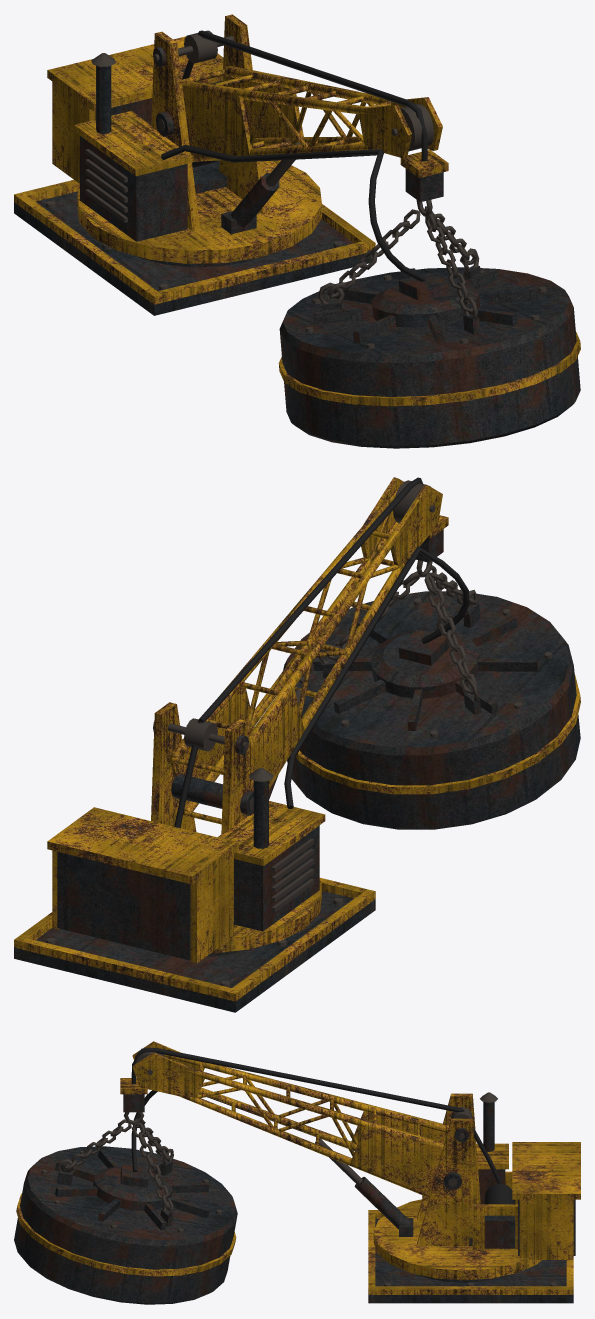
File: magnus-magnet.glb
3 renders of one model, top to bottom at view 1: azimuth 30°, elevation 25°; view 2: azimuth 150°, elevation 25°; view 3: azimuth 270°, elevation 25°, orthographic. The views are drawn at different scales.
Parts seen in each view (by area): view 1: magnus-magnet-base, magnus-magnet-disc, magnus-magnet-arm; view 2: magnus-magnet-base, magnus-magnet-disc, magnus-magnet-arm; view 3: magnus-magnet-base, magnus-magnet-disc, magnus-magnet-arm.
Boxes of the visible parts, x1=… form: magnus-magnet-base: x1=14, y1=14, x2=375, y2=315; magnus-magnet-disc: x1=278, y1=248, x2=580, y2=448; magnus-magnet-arm: x1=161, y1=30, x2=477, y2=312; magnus-magnet-base: x1=14, y1=702, x2=375, y2=1012; magnus-magnet-disc: x1=280, y1=589, x2=580, y2=829; magnus-magnet-arm: x1=169, y1=477, x2=477, y2=828; magnus-magnet-base: x1=368, y1=1092, x2=580, y2=1303; magnus-magnet-disc: x1=14, y1=1146, x2=237, y2=1304; magnus-magnet-arm: x1=64, y1=1041, x2=501, y2=1229.
Bounding box in the file's own units: 1.23 × 1.38 × 3.14.
6 materials, 2 textured.
